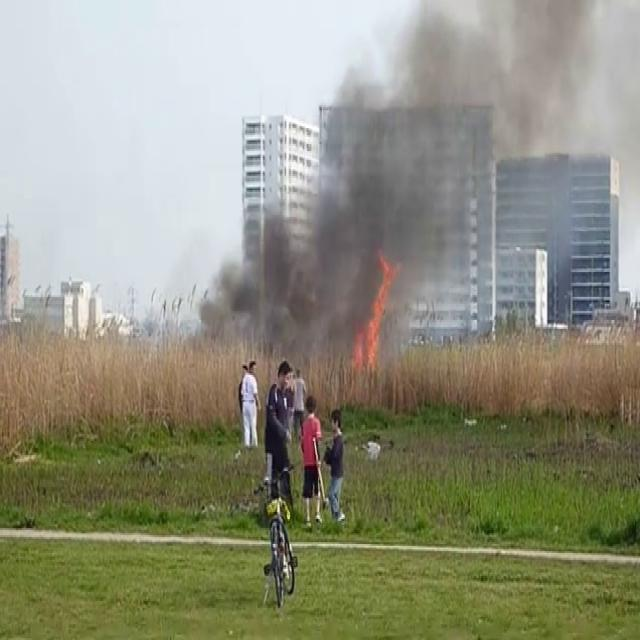Fire: (349, 253, 397, 391)
Smoke: (198, 0, 640, 357)
